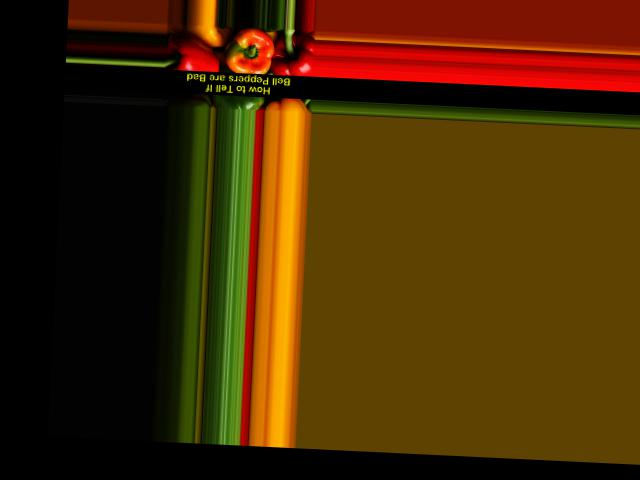bell_pepper: (267, 28, 313, 79)
